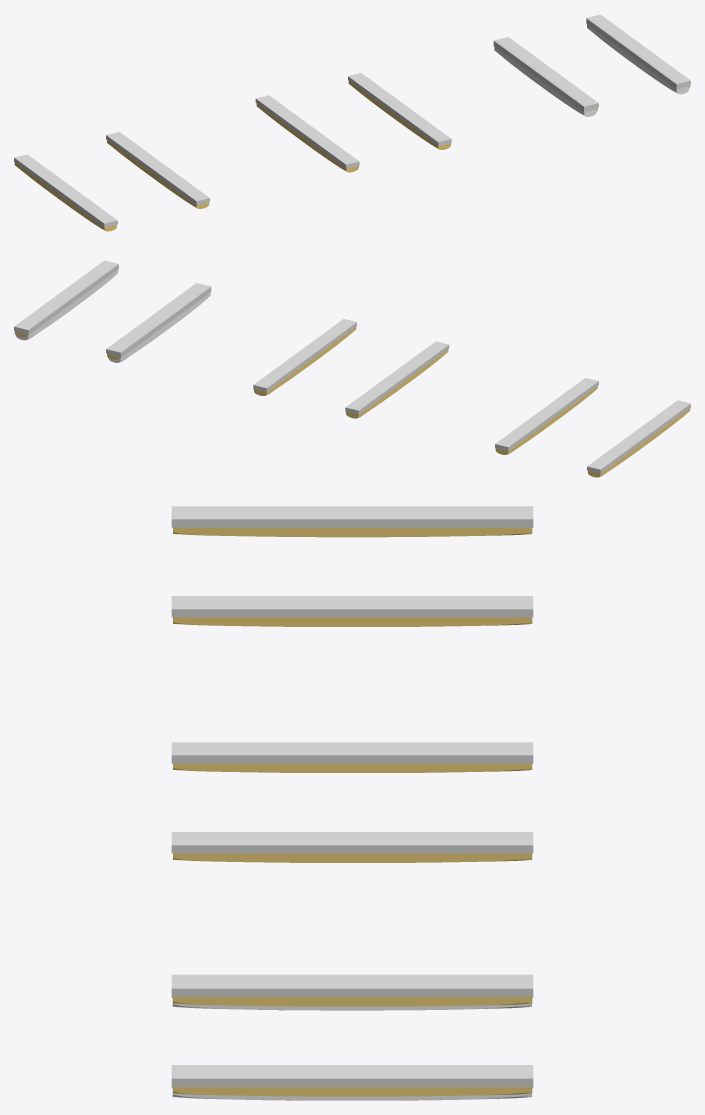
File: light2-on.glb
The picture shows the model from 3 angles, top to bottom: view 1: azimuth 30°, elevation 25°; view 2: azimuth 150°, elevation 25°; view 3: azimuth 270°, elevation 25°; orthographic projection. The views are drawn at different scales.
Visible parts, largest first — view 1: Cube.009, Cube.002, Cube.001, Cube.010, Cube.006, Cube.012, Cube.011, Cube.005; view 2: Cube.009, Cube.002, Cube.001, Cube.010, Cube.011, Cube.012, Cube.006, Cube.005; view 3: Cube.012, Cube.011, Cube.002, Cube.009, Cube.001, Cube.010, Cube.006, Cube.005.
Part boxes in pixels (x1,y1,x2,y2): Cube.009: [255, 95, 359, 172]; Cube.002: [14, 154, 117, 231]; Cube.001: [106, 132, 209, 208]; Cube.010: [348, 73, 451, 149]; Cube.006: [493, 40, 597, 116]; Cube.012: [495, 37, 598, 111]; Cube.011: [587, 14, 690, 88]; Cube.005: [586, 18, 689, 94]; Cube.009: [345, 341, 449, 418]; Cube.002: [587, 400, 690, 477]; Cube.001: [495, 378, 598, 454]; Cube.010: [253, 319, 356, 395]; Cube.011: [14, 260, 117, 337]; Cube.012: [106, 283, 209, 360]; Cube.006: [107, 286, 211, 362]; Cube.005: [15, 264, 118, 340]; Cube.012: [171, 975, 533, 1006]; Cube.011: [171, 1065, 533, 1096]; Cube.002: [171, 506, 533, 537]; Cube.009: [171, 742, 533, 772]; Cube.001: [171, 596, 533, 626]; Cube.010: [171, 832, 533, 862]; Cube.006: [171, 974, 533, 1010]; Cube.005: [171, 1065, 533, 1100].
Size of the model in its own units: 20.36 by 0.39 by 5.44.
